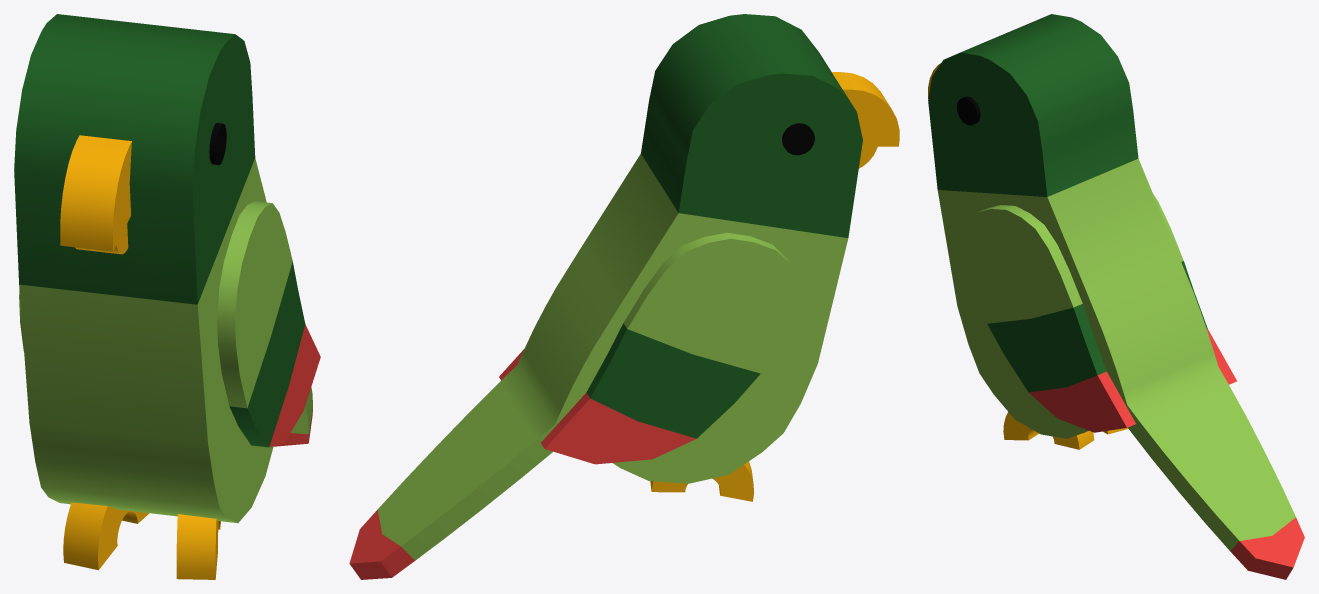
Rendered from parrot.glb.
The picture shows the model from 3 angles, left to right: view 1: azimuth 30°, elevation 25°; view 2: azimuth 150°, elevation 25°; view 3: azimuth 270°, elevation 25°; orthographic projection. The views are drawn at different scales.
Parts seen in each view (by area): view 1: Circle.1962; view 2: Circle.1962; view 3: Circle.1962.
Part boxes in pixels (x1,y1,x2,y2): Circle.1962: (14, 14, 320, 579); Circle.1962: (349, 14, 899, 579); Circle.1962: (928, 14, 1304, 579).
Size of the model in its own units: 1.68 by 2.14 by 1.68.
1 material, 1 textured.
